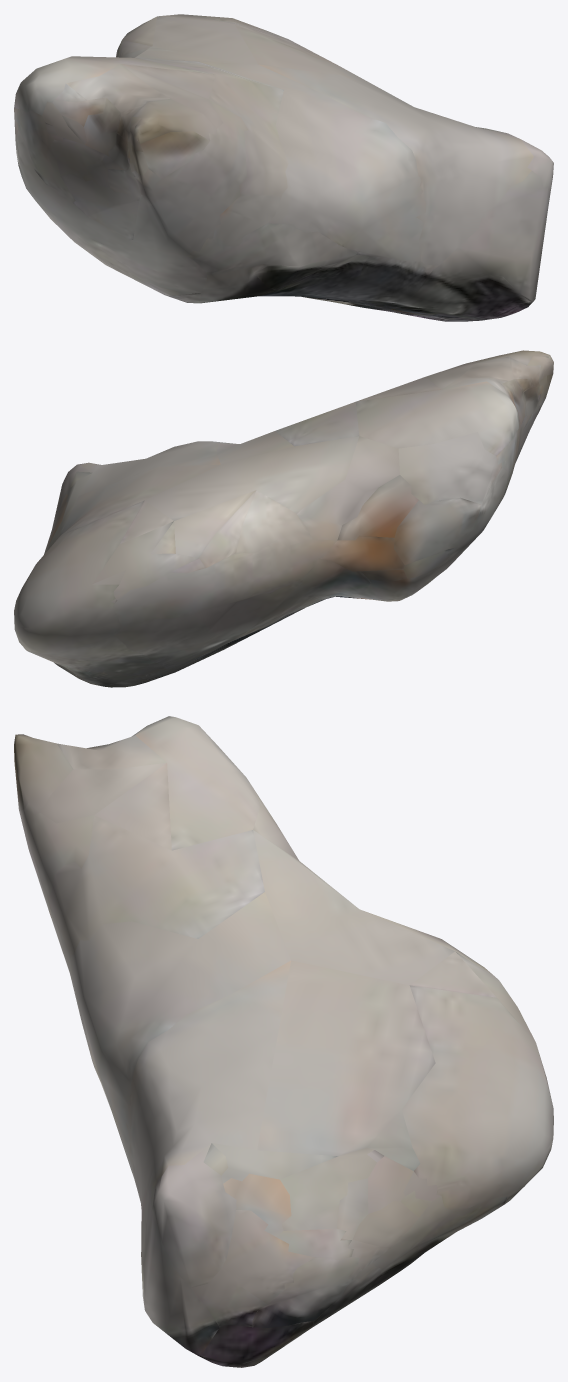
File: hall.glb
The picture shows the model from 3 angles, top to bottom: view 1: azimuth 30°, elevation 25°; view 2: azimuth 150°, elevation 25°; view 3: azimuth 270°, elevation 25°; orthographic projection. The views are drawn at different scales.
Bounding box in the file's own units: 0.2729 × 0.1957 × 0.231.
Materials: 1 (1 with a texture image).
